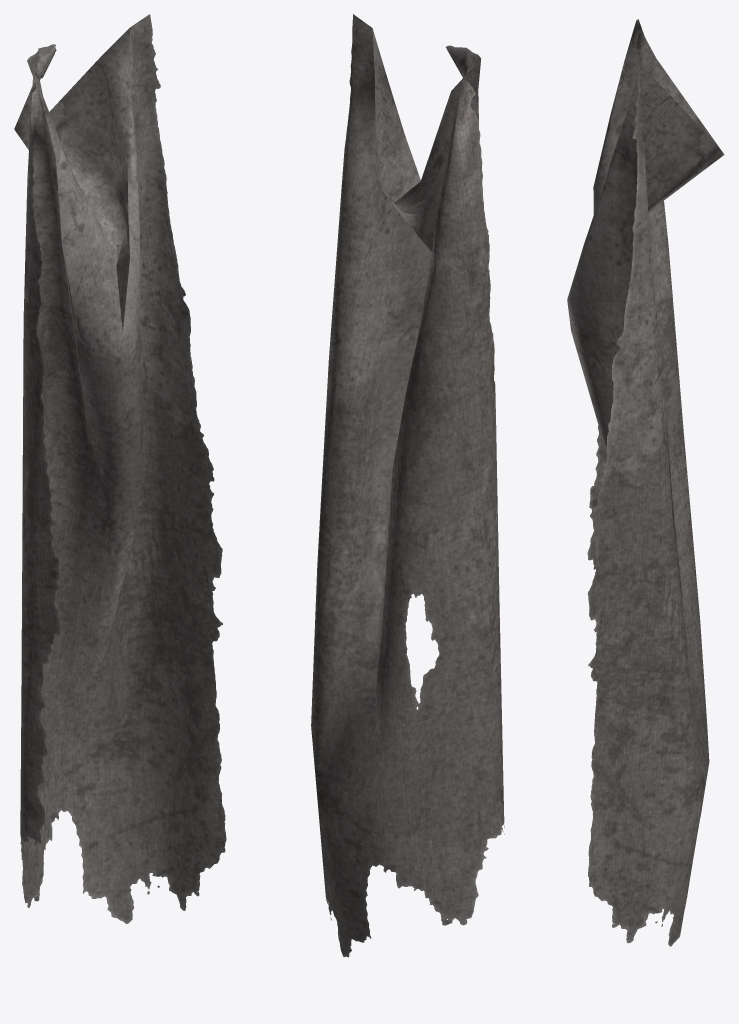
The model's file is SM_Rags_4.fbx.
The picture shows the model from 3 angles, left to right: view 1: azimuth 30°, elevation 25°; view 2: azimuth 150°, elevation 25°; view 3: azimuth 270°, elevation 25°; orthographic projection. The views are drawn at different scales.
Parts seen in each view (by area): view 1: SM_Rags_4_LOD0; view 2: SM_Rags_4_LOD0; view 3: SM_Rags_4_LOD0.
Boxes of the visible parts, x1,y1,x2,y2 form: SM_Rags_4_LOD0: (14, 14, 226, 923); SM_Rags_4_LOD0: (311, 14, 504, 957); SM_Rags_4_LOD0: (567, 19, 724, 946).
Size of the model in its own units: 15.97 by 12.11 by 65.36.
